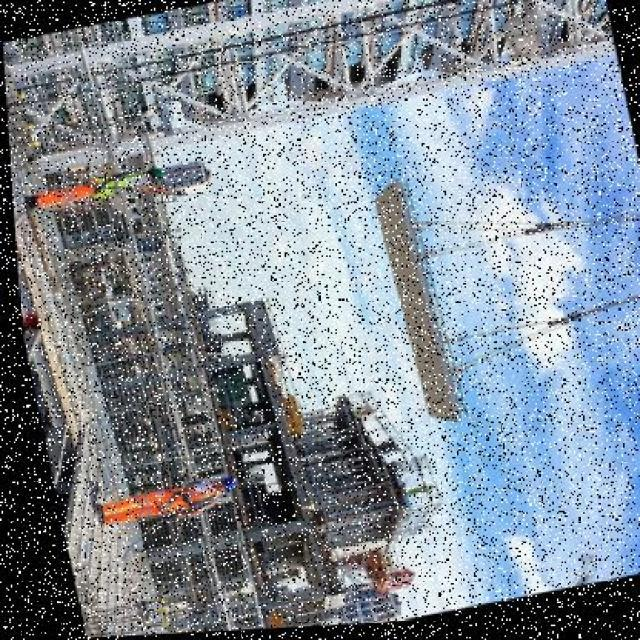helmet: (208, 474, 229, 495), (140, 166, 160, 184)
vest: (145, 479, 213, 528), (86, 170, 142, 206)
